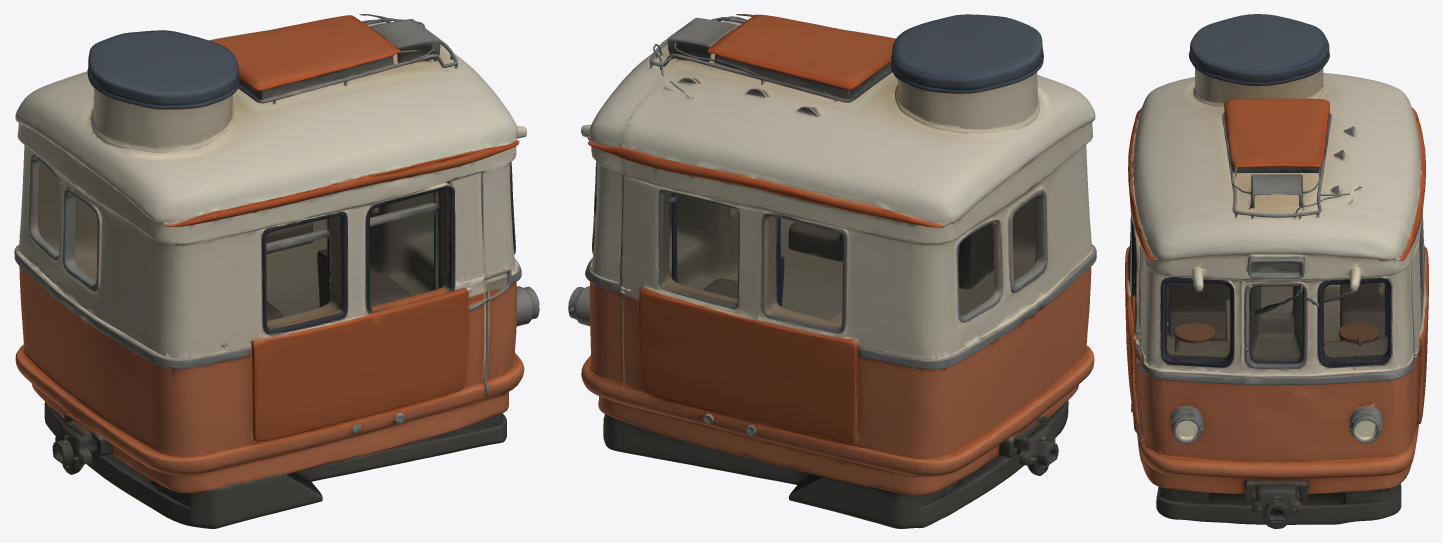
The model's file is terracotta-commuter-car.glb.
3 renders of one model, left to right at view 1: azimuth 30°, elevation 25°; view 2: azimuth 150°, elevation 25°; view 3: azimuth 270°, elevation 25°, orthographic. The views are drawn at different scales.
Visible parts, largest first — view 1: tripo_node_68f973c6-51ab-4a5a-a23d-91fd00427249; view 2: tripo_node_68f973c6-51ab-4a5a-a23d-91fd00427249; view 3: tripo_node_68f973c6-51ab-4a5a-a23d-91fd00427249.
Boxes of the visible parts, <box> form: tripo_node_68f973c6-51ab-4a5a-a23d-91fd00427249: <box>14,14,539,528</box>; tripo_node_68f973c6-51ab-4a5a-a23d-91fd00427249: <box>568,14,1096,528</box>; tripo_node_68f973c6-51ab-4a5a-a23d-91fd00427249: <box>1125,14,1428,528</box>.
Bounding box in the file's own units: 3.89 × 3.5 × 2.68.
1 material, 1 textured.
